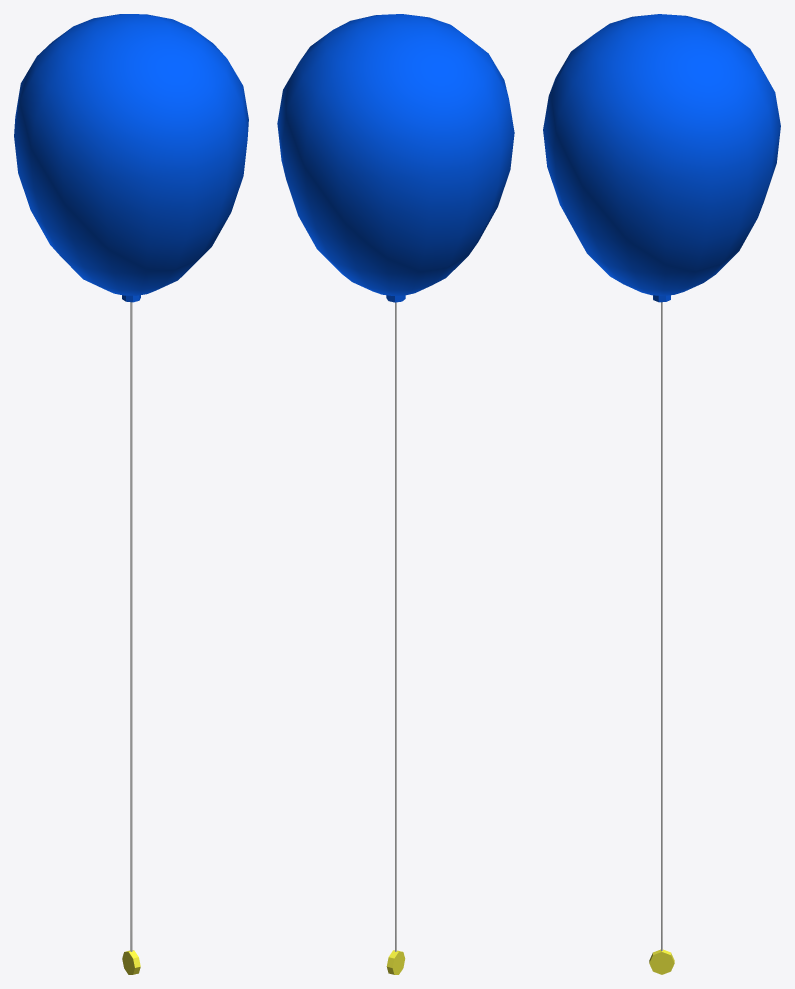
The model's file is BalloonH.fbx.
3 renders of one model, left to right at view 1: azimuth 30°, elevation 25°; view 2: azimuth 150°, elevation 25°; view 3: azimuth 270°, elevation 25°, orthographic.
Parts seen in each view (by area): view 1: BalloonH; view 2: BalloonH; view 3: BalloonH.
Boxes of the visible parts, x1,y1,x2,y2 form: BalloonH: (14, 14, 248, 974); BalloonH: (277, 14, 514, 974); BalloonH: (543, 14, 780, 974).
Bounding box in the file's own units: 275 × 1208 × 275.
